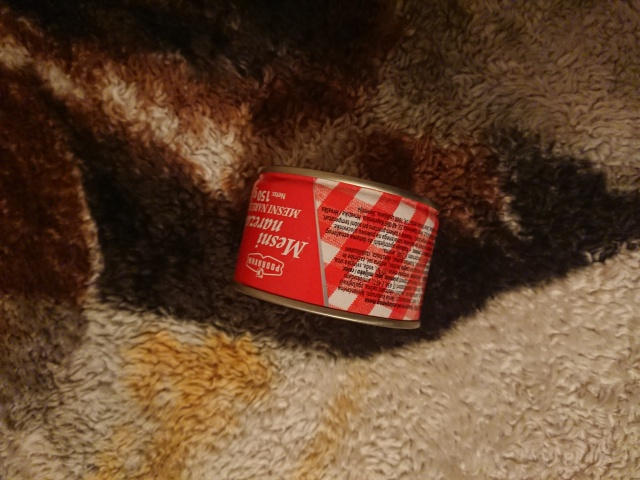Podravka Luncheon Meat 150g: (228, 161, 443, 332)
